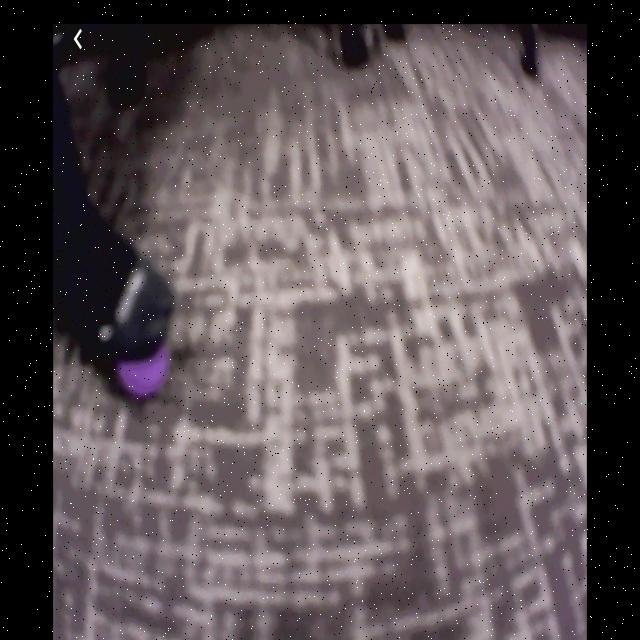ball: (119, 340, 173, 398)
